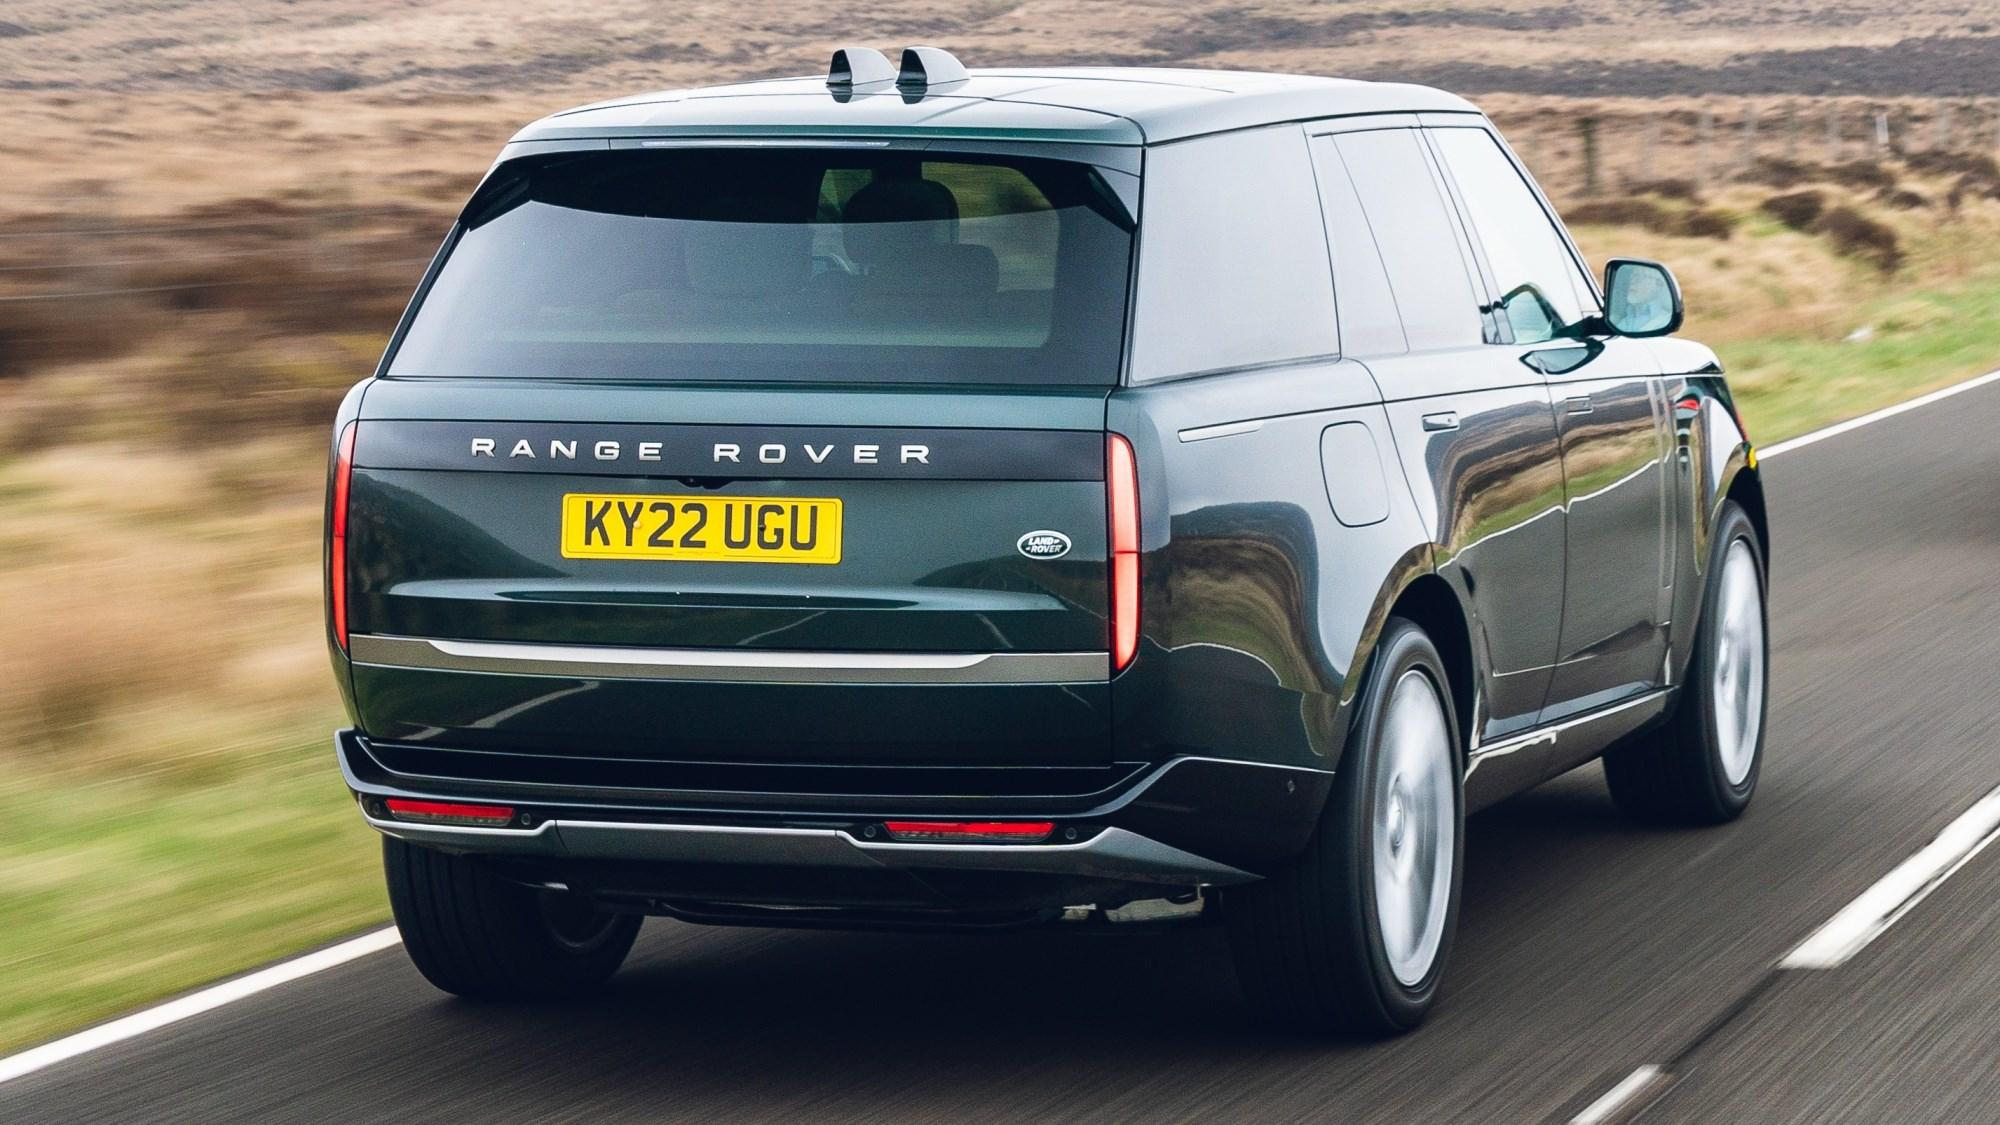range rover: (430, 411, 957, 501)
